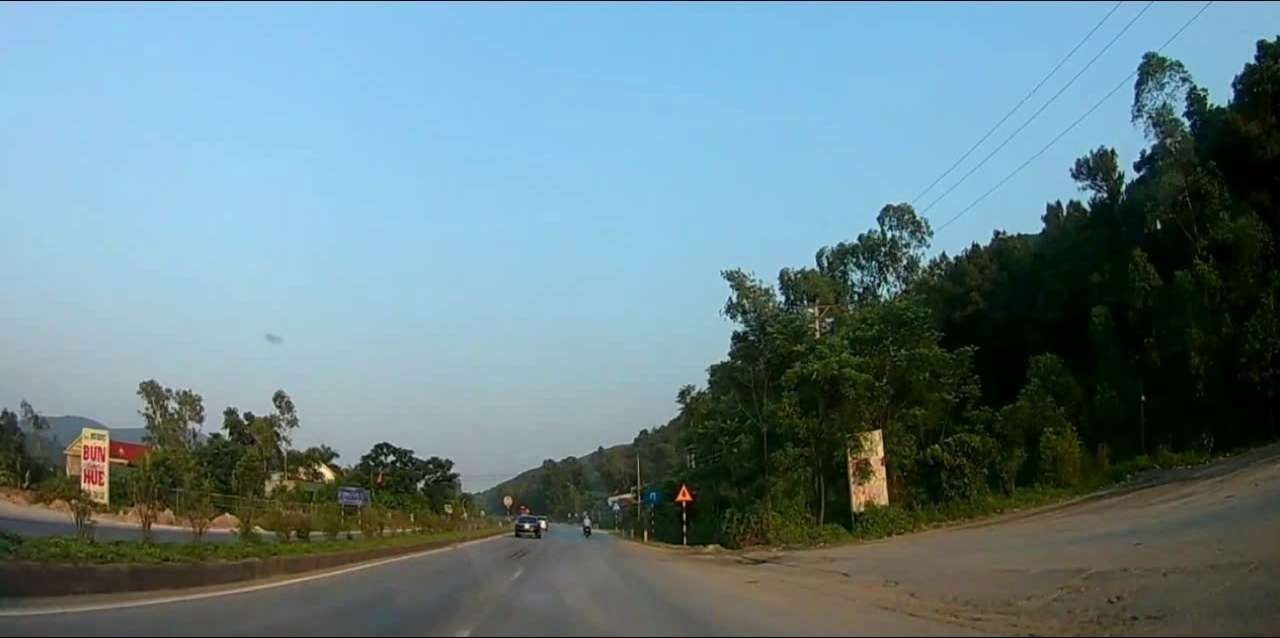Bien khac: (645, 487, 658, 502)
Giao nhau voi duong khong uu tien: (674, 479, 693, 502)
